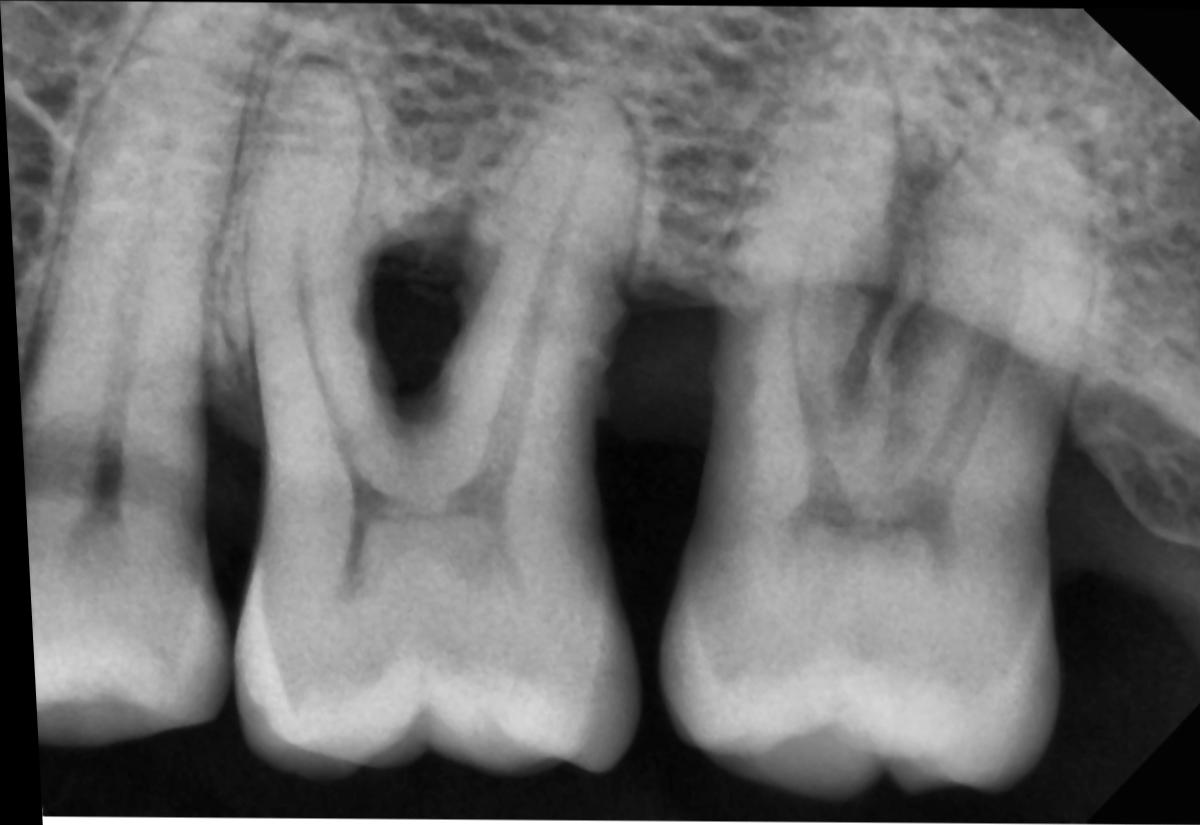Individual Tooth: (654, 47, 1096, 803), (221, 56, 639, 780), (16, 1, 278, 749)
